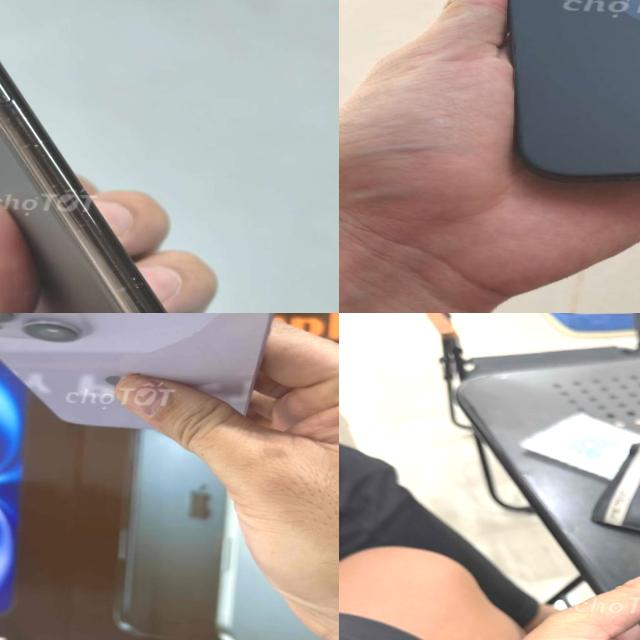gen_11: (0, 62, 165, 313)
gen_14: (0, 313, 277, 443)
gen_15: (443, 0, 640, 197)
